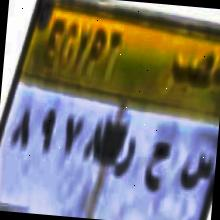7: (58, 114, 86, 157)
7aa: (142, 135, 176, 197)
8: (9, 103, 36, 158), (82, 117, 105, 170)
9: (38, 103, 60, 160)
raa: (114, 131, 142, 182)
seen: (176, 142, 215, 199)
